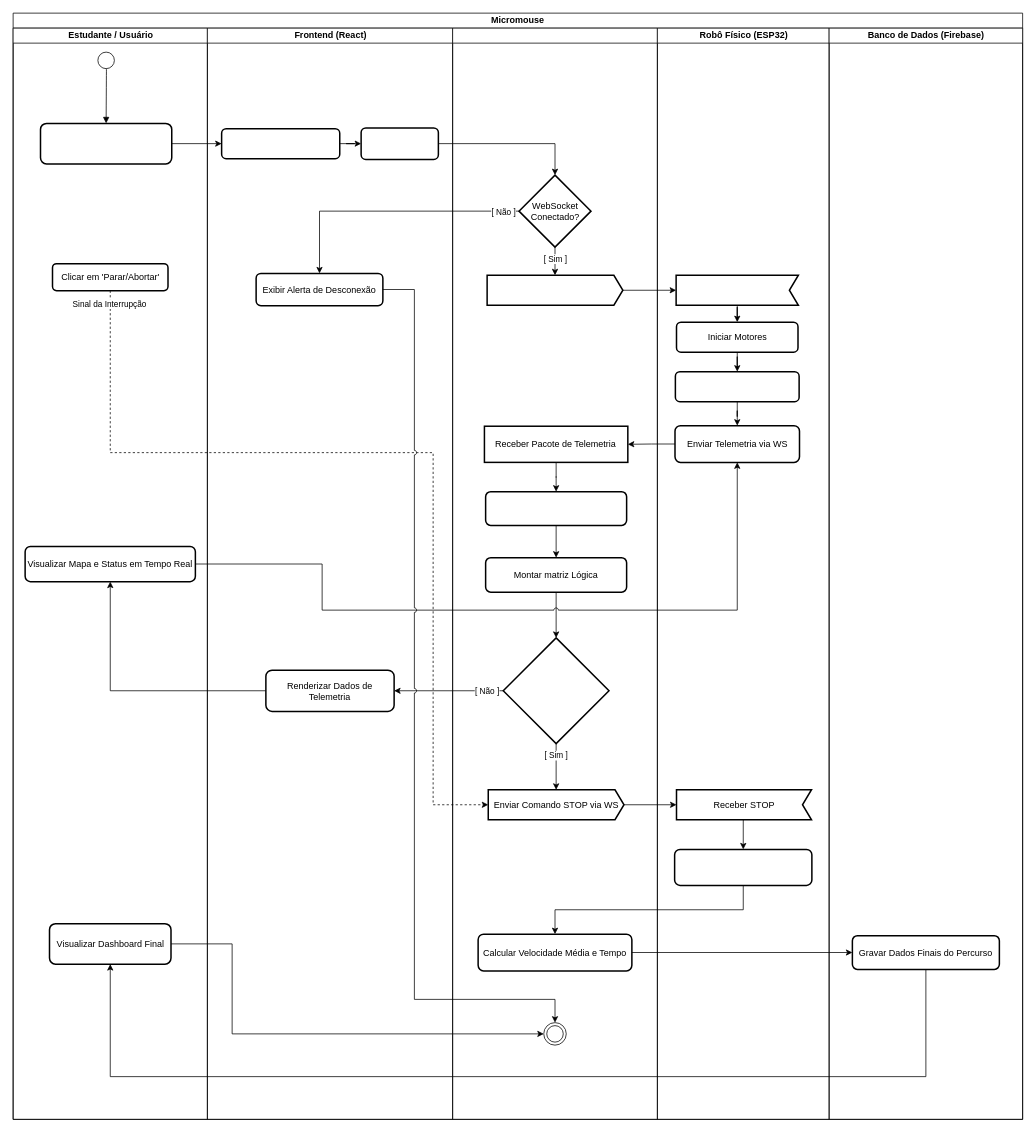
The diagram is 1036 pixels wide and 1133 high, and some of its shapes have lost their labels. The shapes that lost their labels are listed below. From the top down, each one's box as (x1, y1, x2, y2) in pixels, then its label:
(39, 122, 172, 164): Clicar em 'Iniciar Trajeto'
(220, 128, 340, 159): Setar configurações iniciais
(360, 127, 439, 160): Preparar a tela
(486, 274, 623, 306): Enviar Comando START via WS
(675, 274, 799, 306): Receber START
(674, 370, 800, 402): Ler Sensores
(484, 490, 627, 526): Processar Obstáculos
(452, 27, 657, 1119): Backend (Node.js)
(502, 637, 609, 744): Pacote indica Fim (Achou Espaço 2x2)?
(674, 848, 812, 886): Frear Motores
